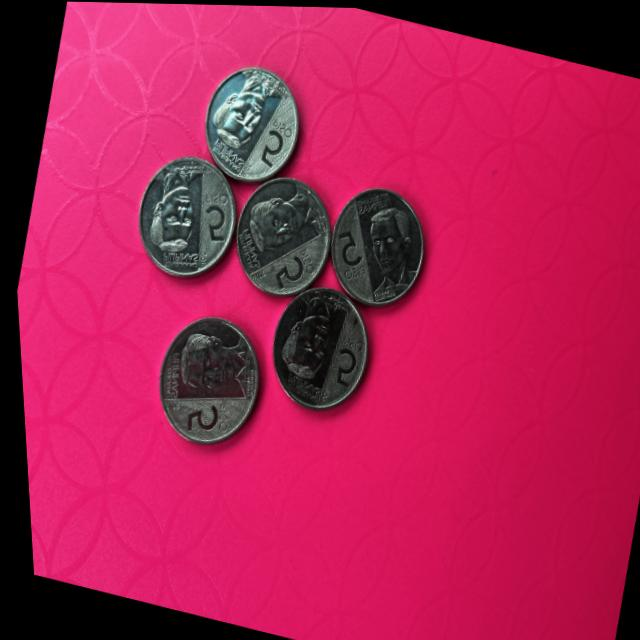5_New_Front: (319, 212, 376, 285), (315, 327, 366, 396), (262, 239, 321, 297), (249, 107, 298, 172), (186, 181, 231, 242), (172, 394, 227, 439)
